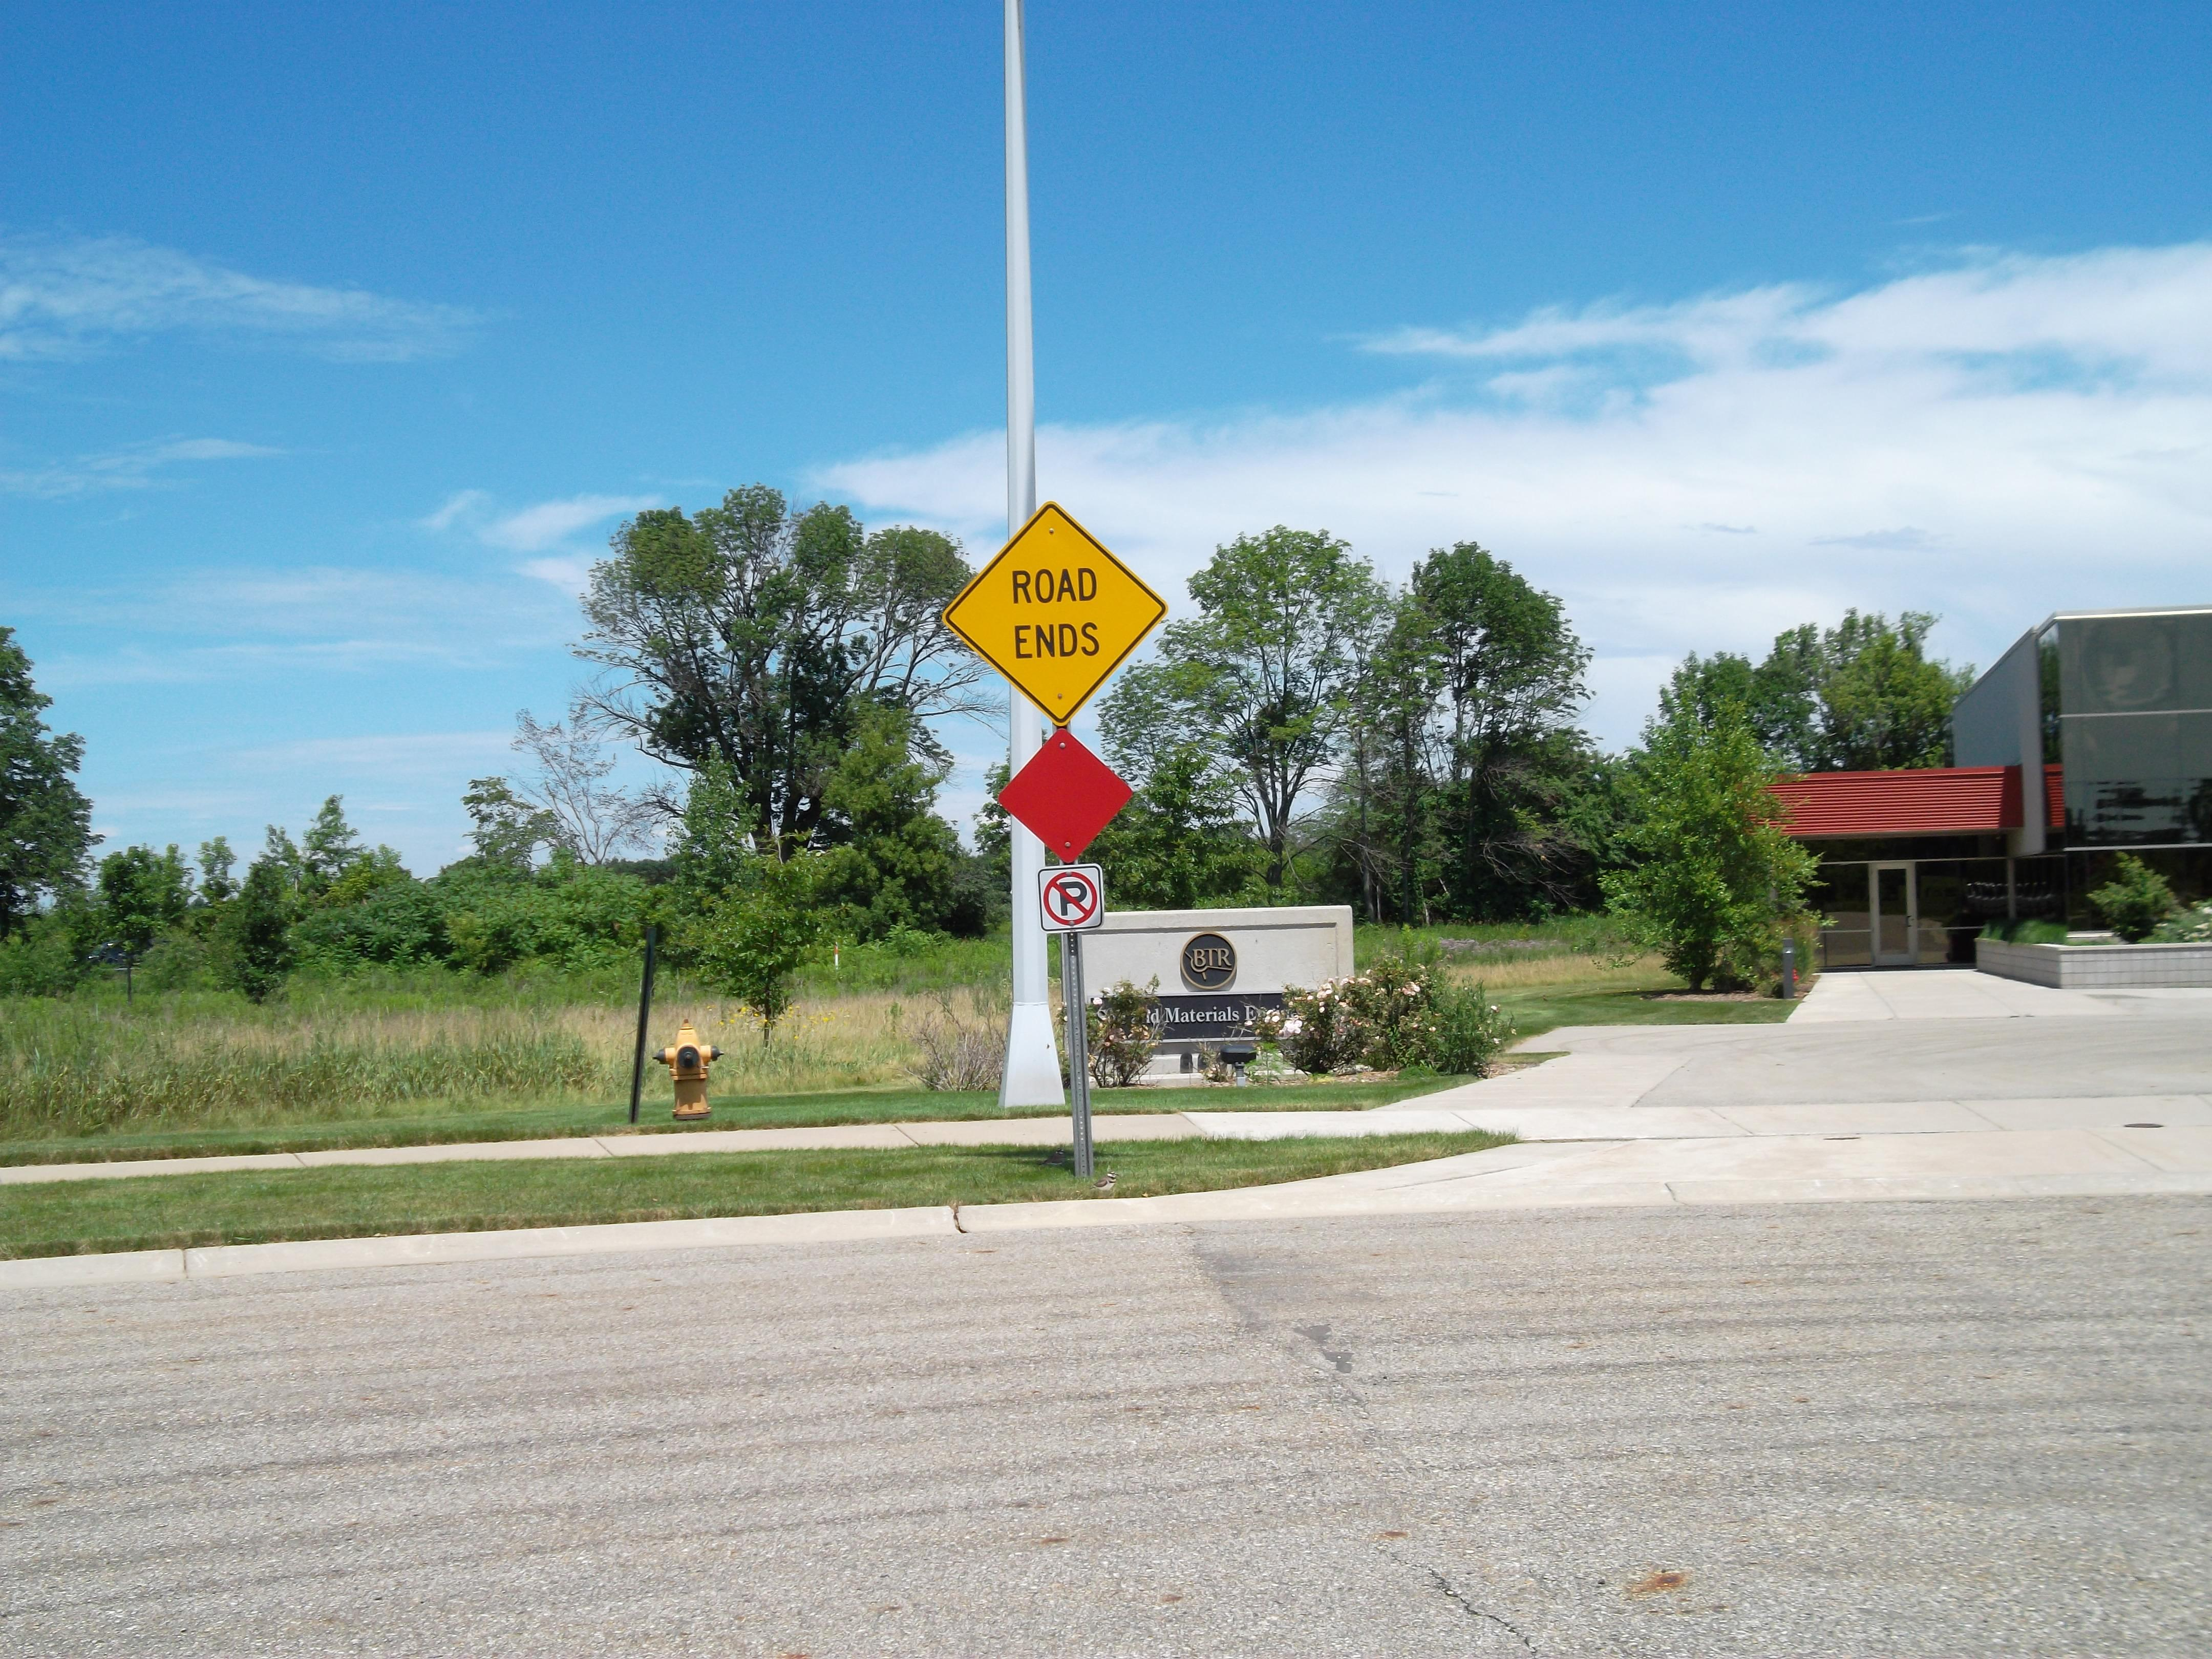warning: (946, 500, 1165, 725)
